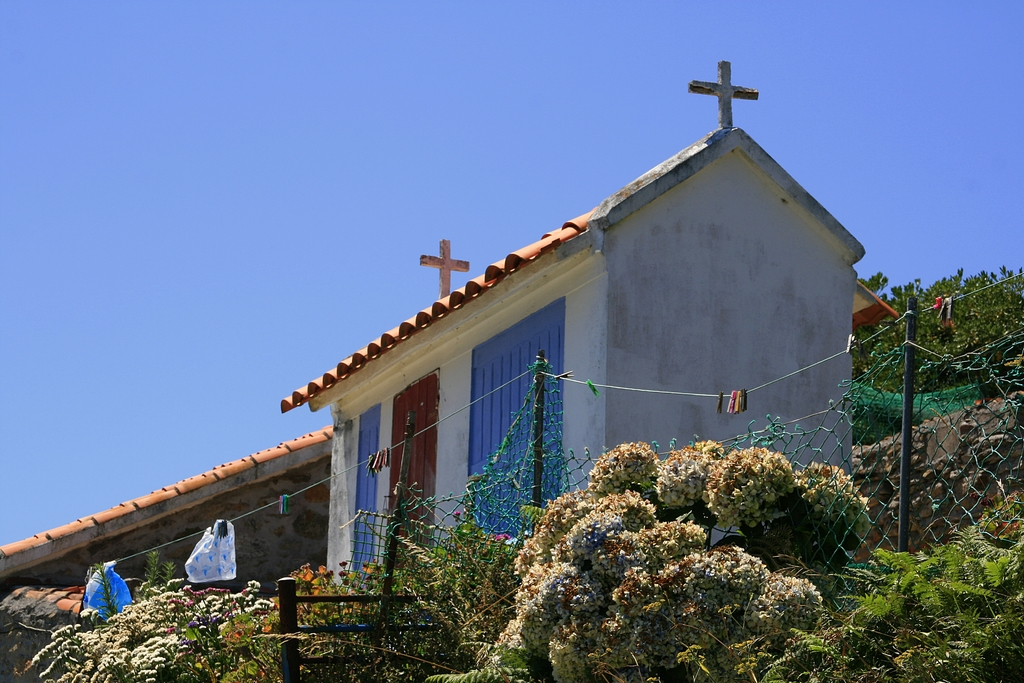Tree: (30, 445, 1023, 682), (855, 265, 1023, 395)
